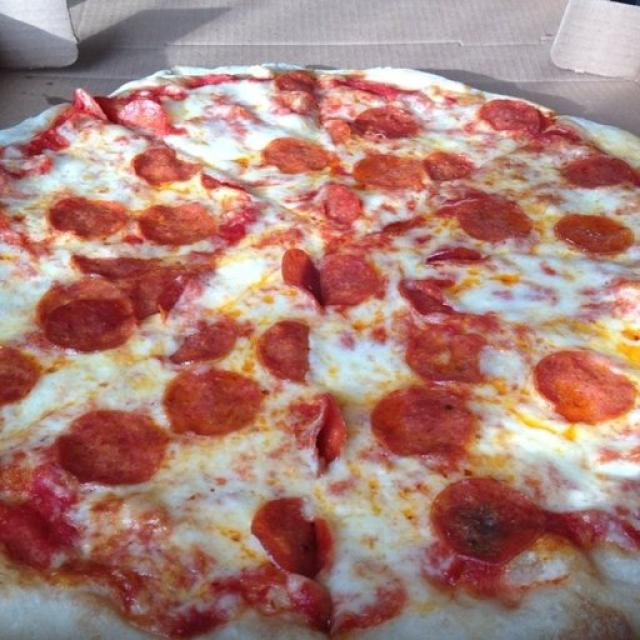Pepperoni: (532, 338, 640, 425), (76, 251, 208, 317), (435, 474, 537, 557), (64, 412, 164, 486), (255, 498, 336, 580), (403, 310, 489, 386), (174, 364, 260, 436), (45, 282, 127, 354), (385, 388, 465, 453), (454, 191, 530, 241), (553, 212, 634, 258), (304, 384, 345, 470), (173, 309, 237, 363), (50, 194, 126, 238), (142, 199, 217, 241), (332, 248, 381, 311), (268, 312, 309, 383), (280, 241, 320, 309), (0, 341, 41, 402), (480, 98, 539, 140), (563, 156, 640, 188), (136, 146, 199, 184), (357, 158, 425, 192), (121, 99, 187, 133), (396, 273, 456, 310), (360, 109, 414, 139), (419, 150, 471, 180), (281, 147, 335, 175), (323, 181, 355, 221), (381, 214, 423, 239), (423, 248, 485, 263), (267, 139, 291, 161)
Pizza: (0, 65, 640, 640)
